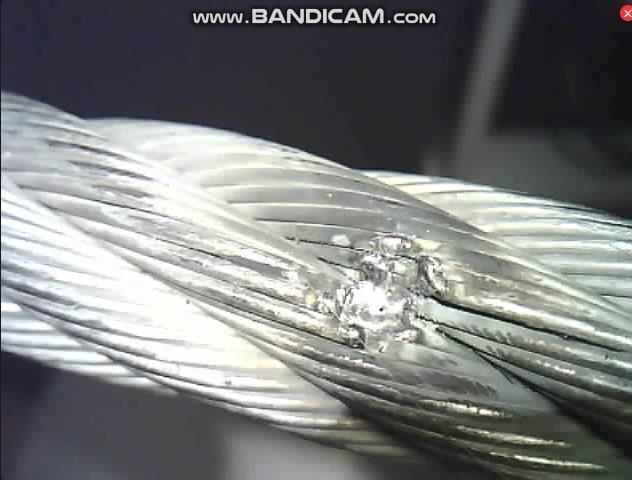thunderbolt: (280, 229, 480, 362)
